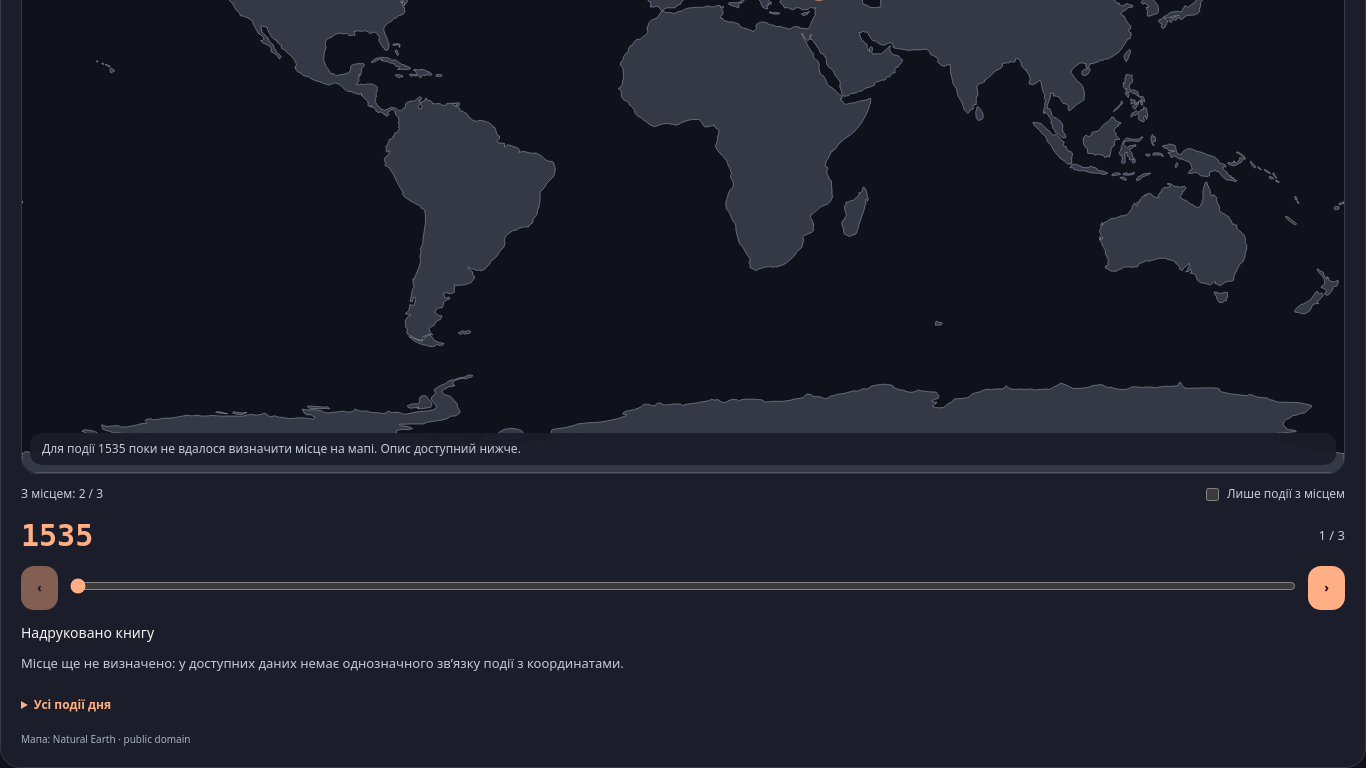
Test: filters mapped events, supports marker keyboard navigation and restores the full timeline
(page scrolled)
Click the checkbox labelled "Лише події з місцем" at (1212, 494), box [1206,488,1219,501]
(page scrolled)
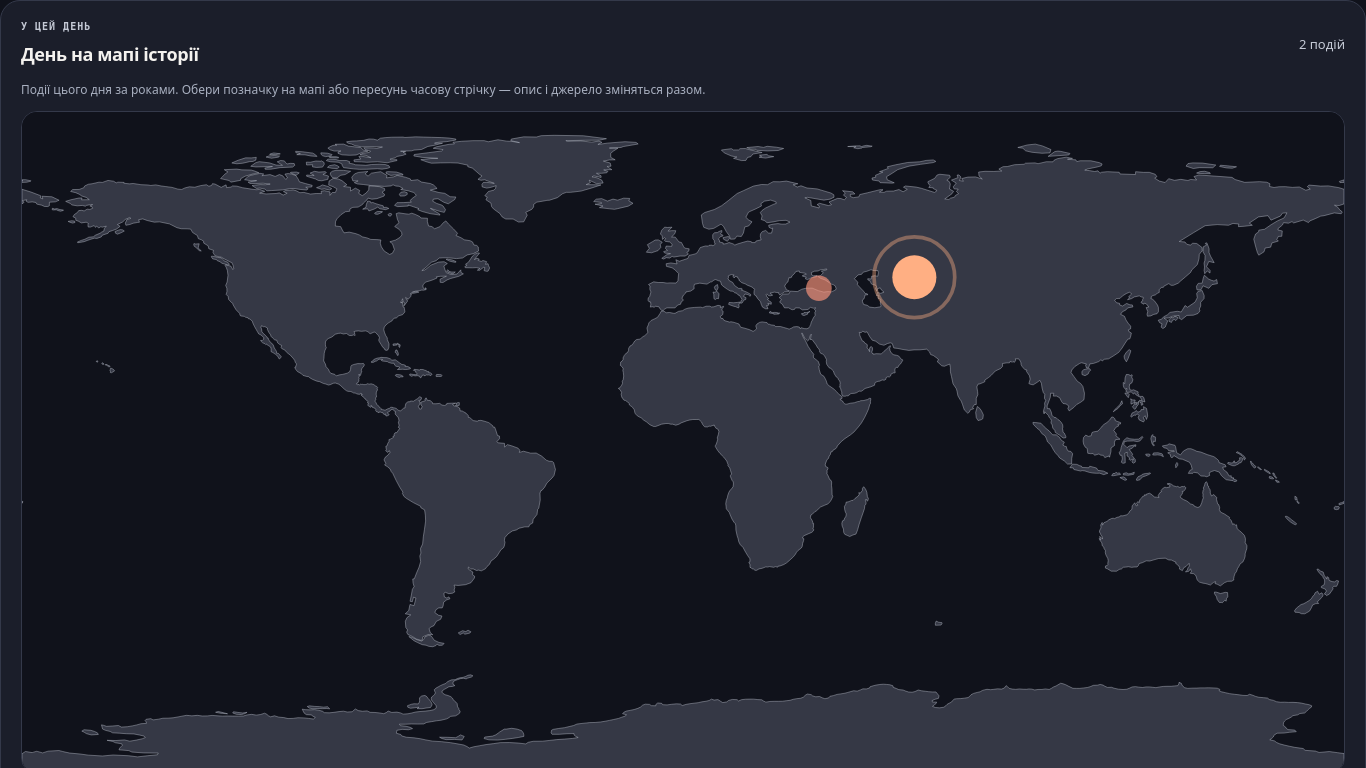
Press Enter in the button "2001: Чорне море", box [778,248,859,329]
(page scrolled)
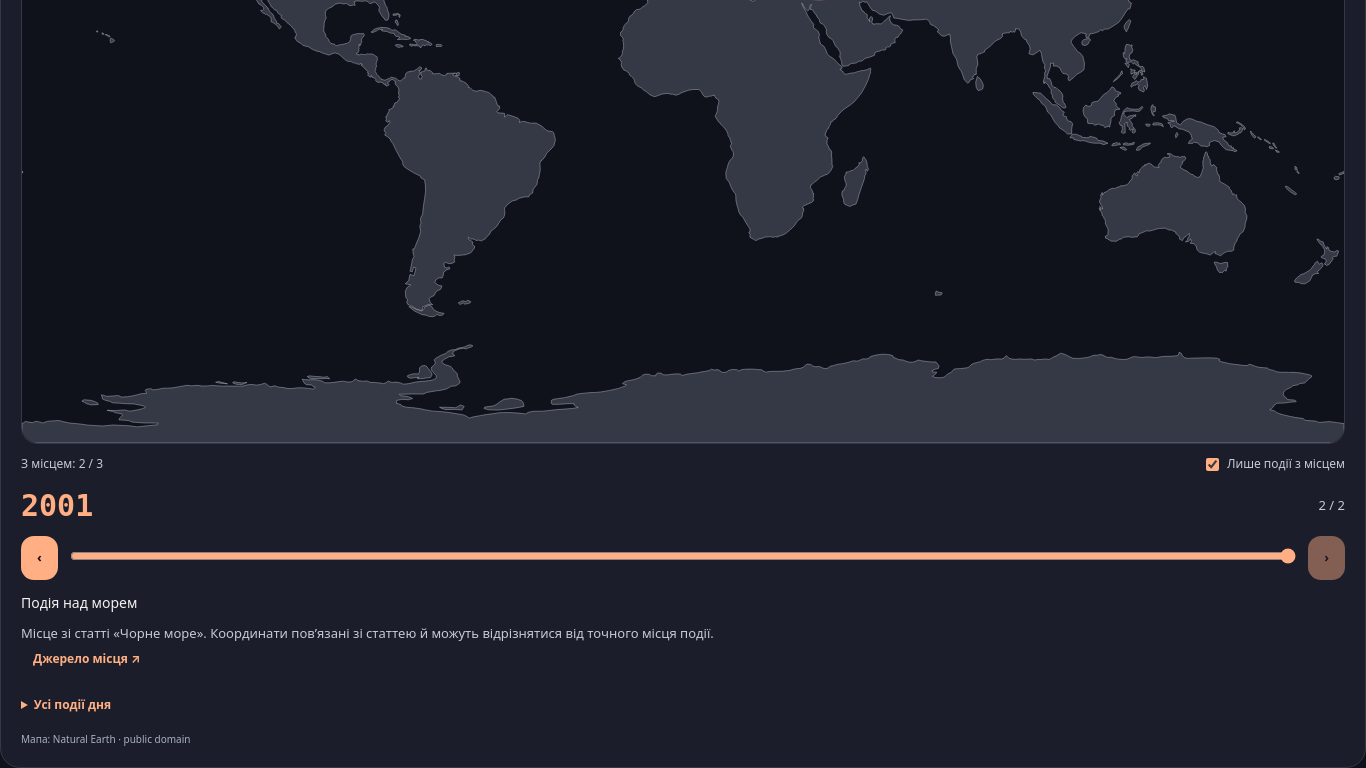
Now the slider holds "1", box [70,548,1296,564]
Click the checkbox labelled "Лише події з місцем" at (1212, 464), box [1206,458,1219,471]
(page scrolled)
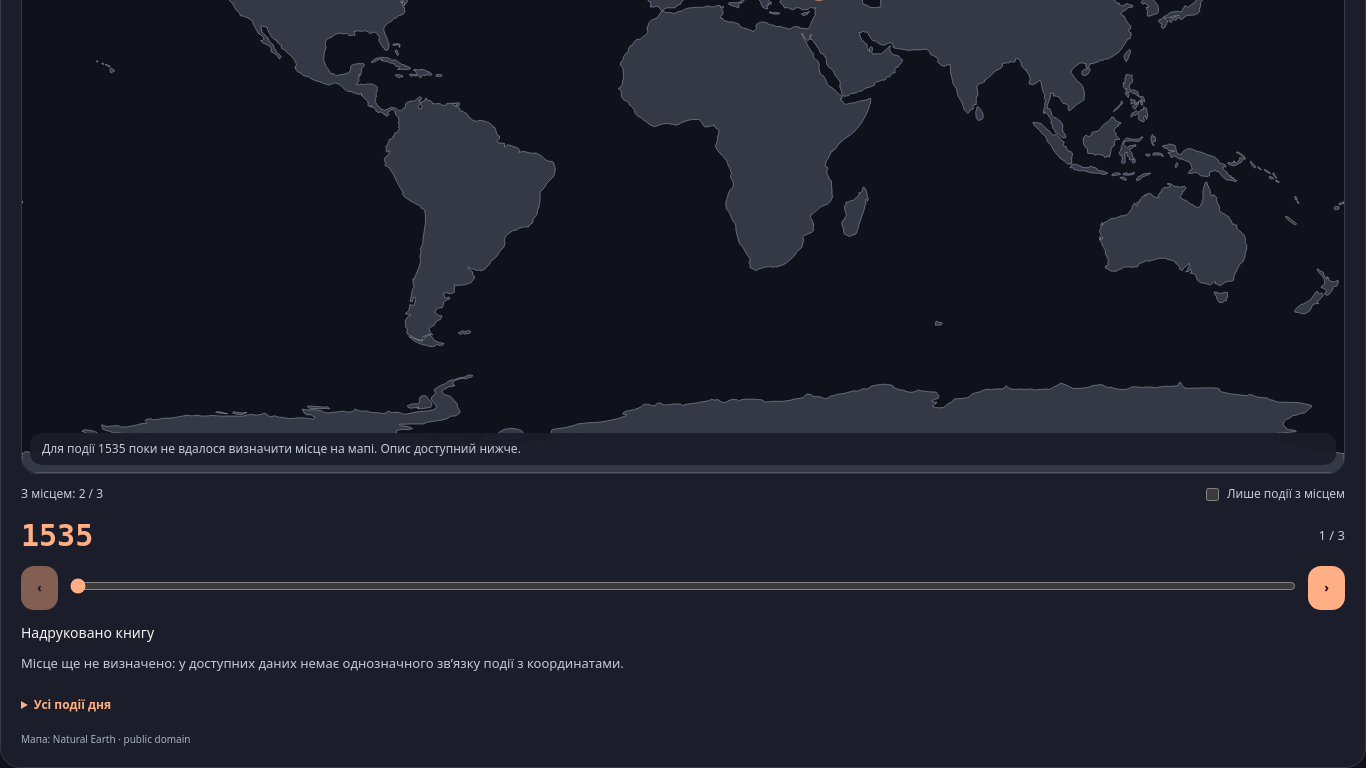
Now the message shows "1535", box [98,440,126,457]
